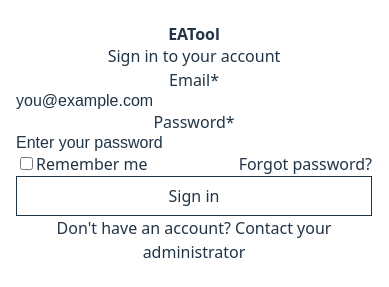
Test: LoginPage › should show error message on login failure
The image size is (389, 287).
Step 1. Type "test@example.com" into the field with placeholder "you@example.com" → (194,101), box [16, 92, 372, 110]
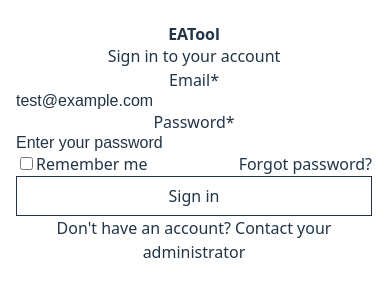
Step 2. Type "wrongpassword" into the password field with placeholder "Enter your password" → (194,143), box [16, 134, 372, 152]
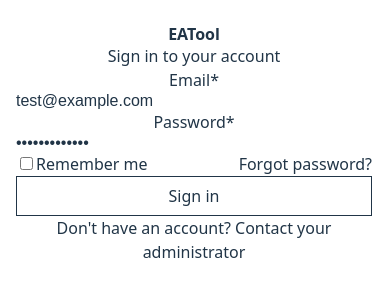
Step 3. Click the button "Sign in" → (194,196), box [16, 176, 372, 216]
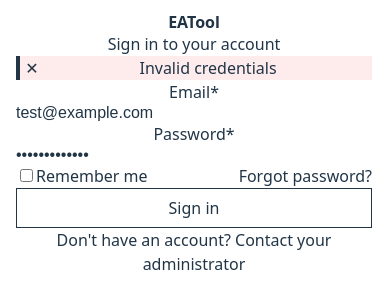
Expected: the text "Invalid credentials" is shown, [140, 57, 277, 79]
